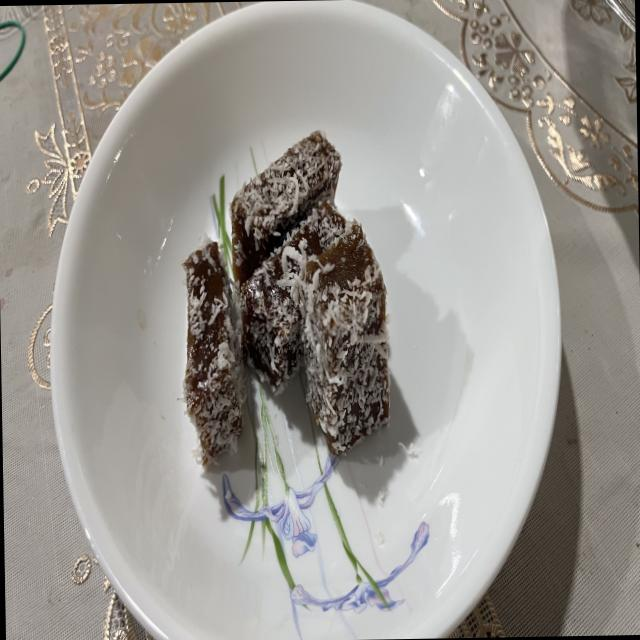kaswi: (241, 202, 345, 394), (230, 131, 341, 286), (183, 240, 246, 464)
